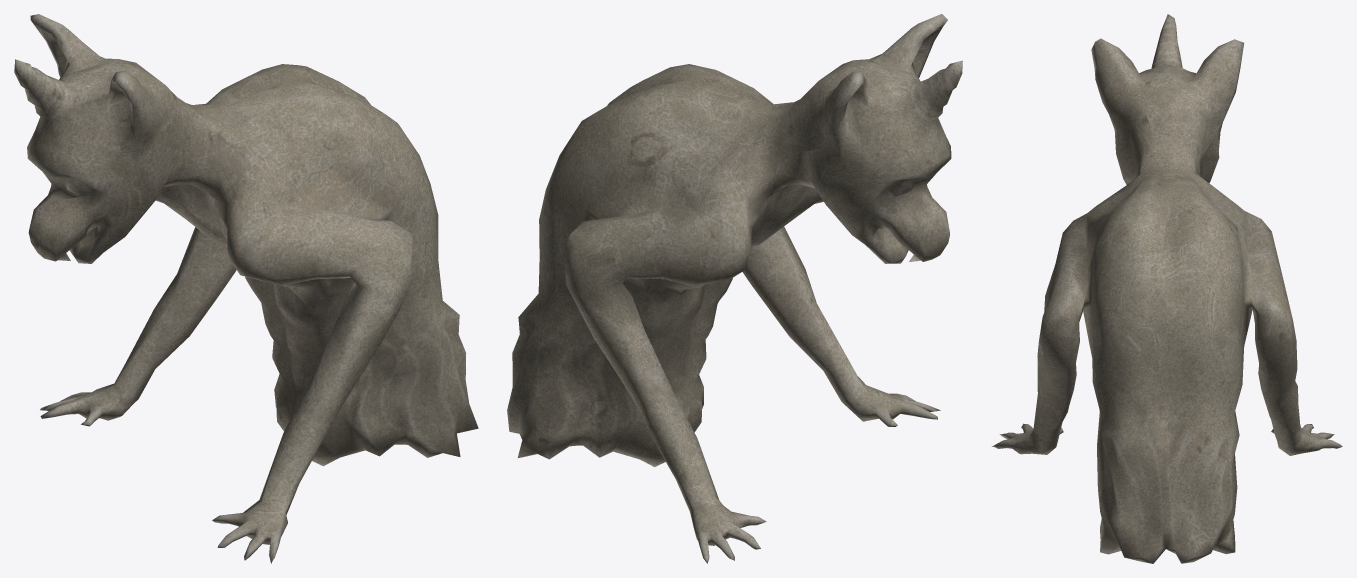
File: SM_Gargoyle_2.fbx
The picture shows the model from 3 angles, left to right: view 1: azimuth 30°, elevation 25°; view 2: azimuth 150°, elevation 25°; view 3: azimuth 270°, elevation 25°; orthographic projection. The views are drawn at different scales.
Visible parts, largest first — view 1: SM_Gargoyle_2_LOD0; view 2: SM_Gargoyle_2_LOD0; view 3: SM_Gargoyle_2_LOD0.
Boxes of the visible parts, left/top/right/bottom form: SM_Gargoyle_2_LOD0: left=14, top=14, right=478, bottom=563; SM_Gargoyle_2_LOD0: left=507, top=14, right=962, bottom=563; SM_Gargoyle_2_LOD0: left=991, top=14, right=1342, bottom=563.
Bounding box in the file's own units: 86.46 × 73.96 × 89.52.
